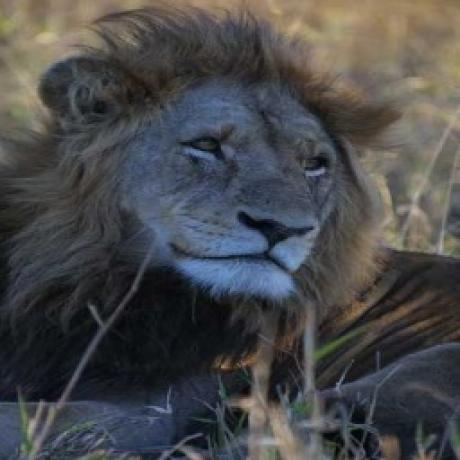Lion: (0, 2, 460, 460)
